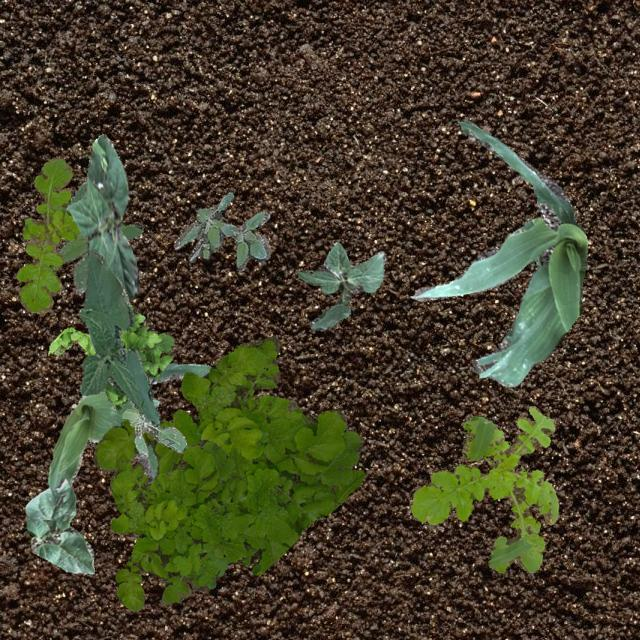crop: (409, 120, 586, 386), (46, 362, 210, 488), (78, 248, 160, 424), (64, 132, 140, 298), (296, 240, 386, 330), (24, 478, 94, 572)
weed: (92, 336, 364, 574), (109, 438, 258, 610), (410, 404, 558, 572), (47, 302, 176, 408), (15, 156, 80, 312), (57, 180, 142, 292), (172, 190, 270, 270), (121, 398, 186, 457)
